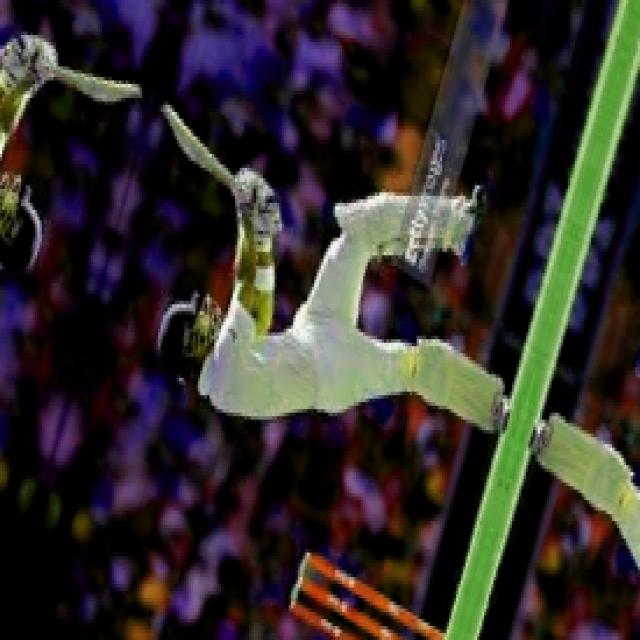toe: (158, 100, 184, 136)
